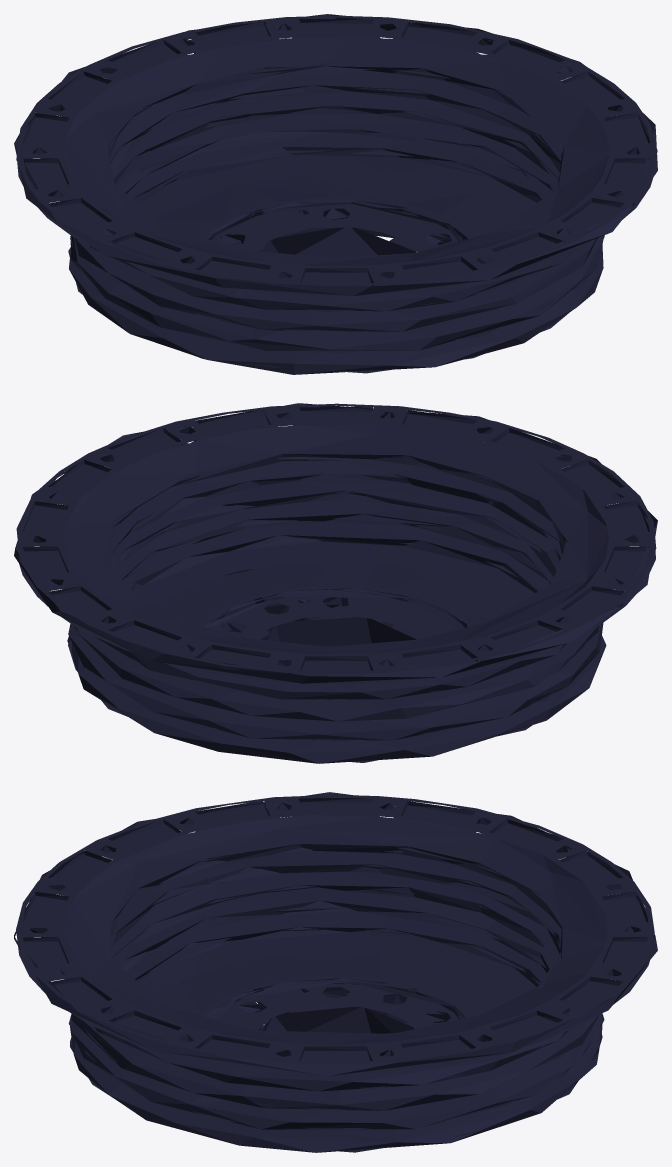
File: front_left_steer_078.dae
3 views of the same model, one above another, from view 1: azimuth 30°, elevation 25°; view 2: azimuth 150°, elevation 25°; view 3: azimuth 270°, elevation 25° (orthographic).
Parts seen in each view (by area): view 1: node; view 2: node; view 3: node.
Part boxes in pixels (<box>): node: <box>14,14,657,374</box>; node: <box>14,403,657,763</box>; node: <box>14,792,657,1152</box>.
Size of the model in its own units: 0.1998 by 0.1977 by 0.0484.
